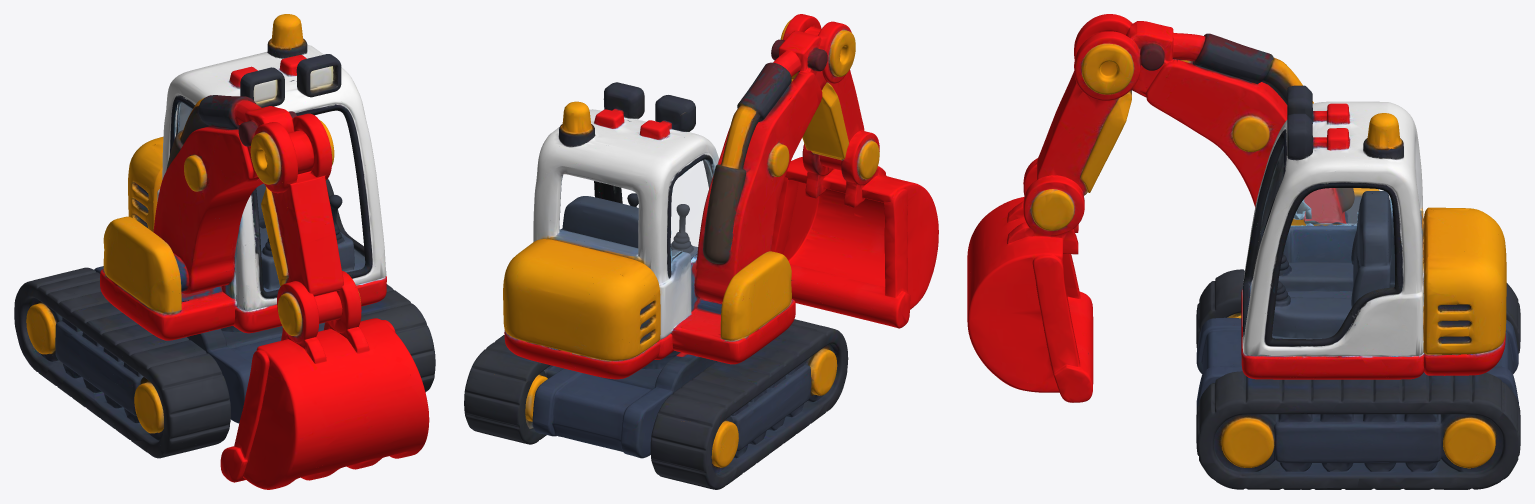
The model's file is excavator-red.glb.
3 views of the same model, side by side, from view 1: azimuth 30°, elevation 25°; view 2: azimuth 150°, elevation 25°; view 3: azimuth 270°, elevation 25° (orthographic). The views are drawn at different scales.
Visible parts, largest first — view 1: tripo_part_1, tripo_part_5, tripo_part_3, tripo_part_0, tripo_part_6, tripo_part_4, tripo_part_2, tripo_part_16, tripo_part_8, tripo_part_13, tripo_part_18, tripo_part_14 (+4 smaller); view 2: tripo_part_1, tripo_part_0, tripo_part_3, tripo_part_8, tripo_part_5, tripo_part_4, tripo_part_6, tripo_part_16, tripo_part_2, tripo_part_7, tripo_part_9, tripo_part_14 (+4 smaller); view 3: tripo_part_0, tripo_part_2, tripo_part_1, tripo_part_5, tripo_part_8, tripo_part_15, tripo_part_16, tripo_part_4, tripo_part_7, tripo_part_11, tripo_part_3, tripo_part_10 (+6 smaller).
Part boxes in pixels (bbox=[...]): tripo_part_1: bbox=[153, 95, 343, 323]; tripo_part_5: bbox=[243, 271, 429, 489]; tripo_part_3: bbox=[14, 267, 230, 458]; tripo_part_0: bbox=[157, 14, 386, 333]; tripo_part_6: bbox=[100, 216, 242, 340]; tripo_part_4: bbox=[55, 266, 325, 423]; tripo_part_2: bbox=[360, 284, 435, 392]; tripo_part_16: bbox=[220, 320, 395, 482]; tripo_part_8: bbox=[128, 137, 163, 231]; tripo_part_13: bbox=[296, 54, 341, 97]; tripo_part_18: bbox=[240, 67, 284, 107]; tripo_part_14: bbox=[261, 186, 288, 286]; tripo_part_1: bbox=[694, 14, 864, 303]; tripo_part_0: bbox=[533, 101, 719, 359]; tripo_part_3: bbox=[650, 319, 848, 489]; tripo_part_8: bbox=[503, 239, 660, 360]; tripo_part_5: bbox=[783, 131, 938, 309]; tripo_part_4: bbox=[532, 352, 811, 458]; tripo_part_6: bbox=[641, 251, 795, 369]; tripo_part_16: bbox=[771, 177, 910, 328]; tripo_part_2: bbox=[464, 335, 552, 444]; tripo_part_7: bbox=[561, 196, 638, 247]; tripo_part_9: bbox=[504, 330, 660, 379]; tripo_part_14: bbox=[802, 82, 848, 158]; tripo_part_0: bbox=[1241, 101, 1424, 379]; tripo_part_2: bbox=[1196, 371, 1520, 489]; tripo_part_1: bbox=[1037, 14, 1354, 223]; tripo_part_5: bbox=[967, 158, 1084, 392]; tripo_part_8: bbox=[1423, 207, 1506, 354]; tripo_part_15: bbox=[1273, 421, 1442, 462]; tripo_part_16: bbox=[1032, 253, 1093, 402]; tripo_part_4: bbox=[1196, 317, 1518, 410]; tripo_part_7: bbox=[1351, 191, 1391, 307]; tripo_part_11: bbox=[1272, 281, 1351, 338]; tripo_part_3: bbox=[1196, 269, 1520, 353]; tripo_part_10: bbox=[1278, 253, 1353, 291].
Size of the model in its own units: 2.02 by 2.62 by 3.53.
26 materials, 24 textured.
